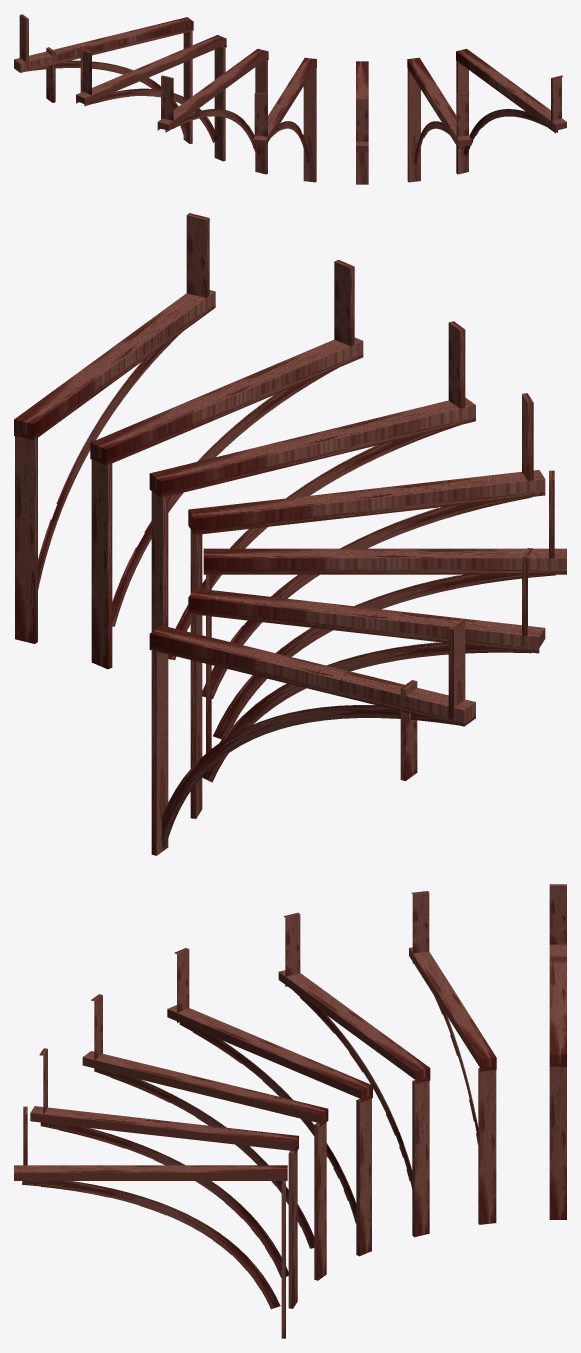
Rendered from flyingButrresses.fbx.
3 renders of one model, top to bottom at view 1: azimuth 30°, elevation 25°; view 2: azimuth 150°, elevation 25°; view 3: azimuth 270°, elevation 25°, orthographic. The views are drawn at different scales.
Visible parts, largest first — view 1: Cube.060; view 2: Cube.060; view 3: Cube.060.
Boxes of the visible parts, left/top/right/bottom form: Cube.060: left=14, top=14, right=566, bottom=184; Cube.060: left=14, top=213, right=566, bottom=855; Cube.060: left=14, top=884, right=566, bottom=1338.
Size of the model in its own units: 647 by 290 by 647.
1 material, 1 textured.
